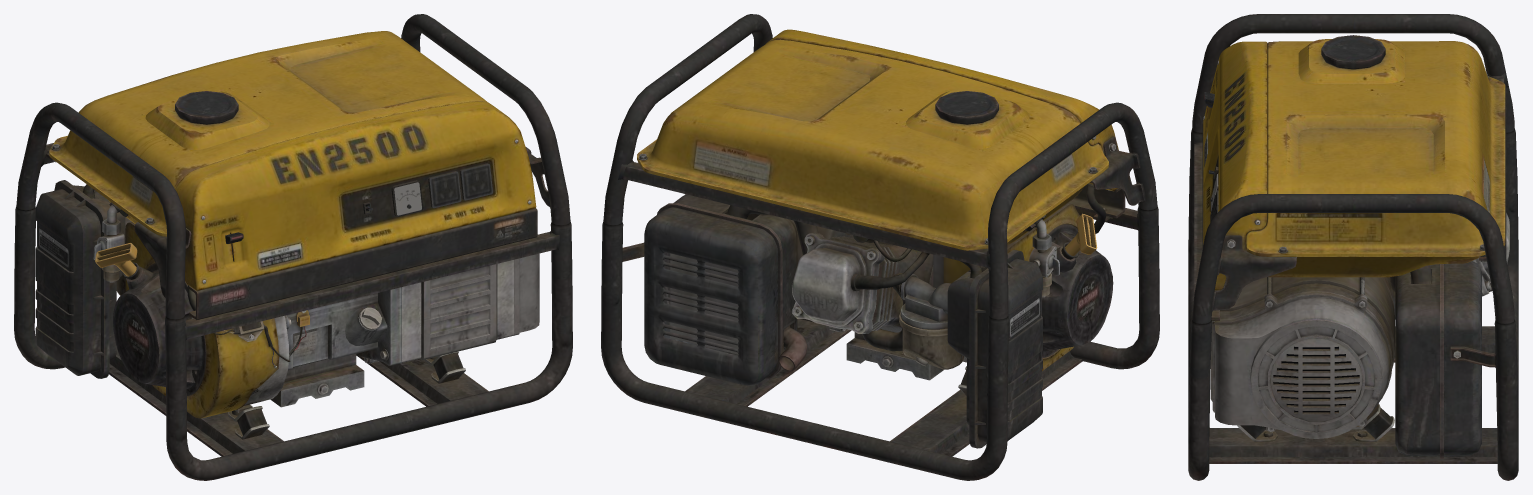
File: portable_generator.gltf
The picture shows the model from 3 angles, left to right: view 1: azimuth 30°, elevation 25°; view 2: azimuth 150°, elevation 25°; view 3: azimuth 270°, elevation 25°; orthographic projection.
Bounding box in the file's own units: 0.8183 × 0.5769 × 0.564.
Materials: 2 (2 with a texture image).
